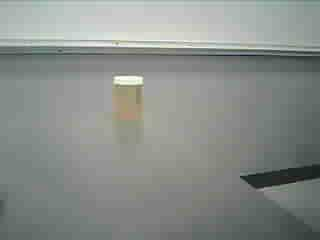Bottle B: (108, 70, 149, 134)
